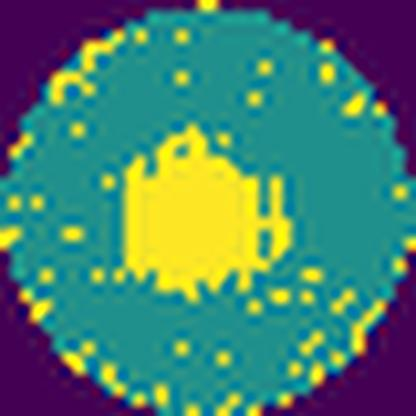Center: (126, 122, 298, 307)
